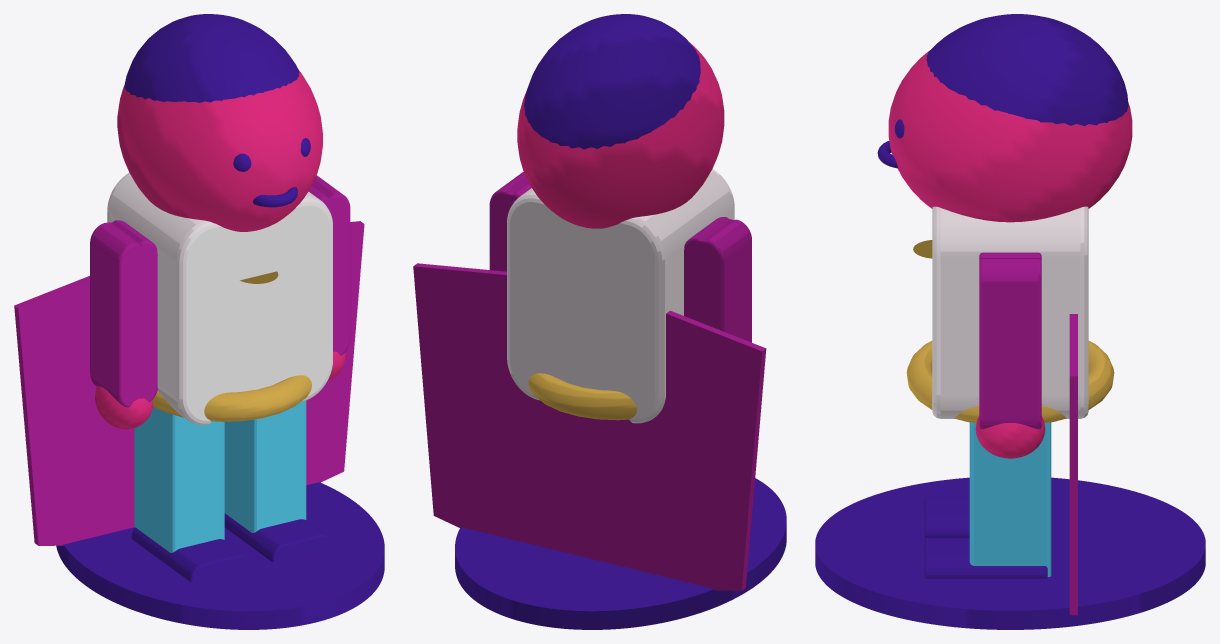
File: 1086_古文观止_郭橐驼.glb
3 views of the same model, side by side, from view 1: azimuth 30°, elevation 25°; view 2: azimuth 150°, elevation 25°; view 3: azimuth 270°, elevation 25° (orthographic). The views are drawn at different scales.
Visible parts, largest first — view 1: card_1086; view 2: card_1086; view 3: card_1086.
Part boxes in pixels (bbox=[...]): card_1086: bbox=[14, 14, 384, 629]; card_1086: bbox=[413, 14, 786, 629]; card_1086: bbox=[815, 14, 1205, 629].
Size of the model in its own units: 0.6739 by 1 by 0.6409.
